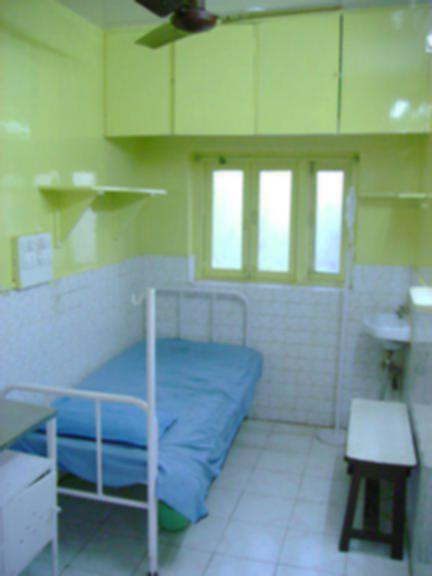Lavamanos: (358, 314, 407, 399)
